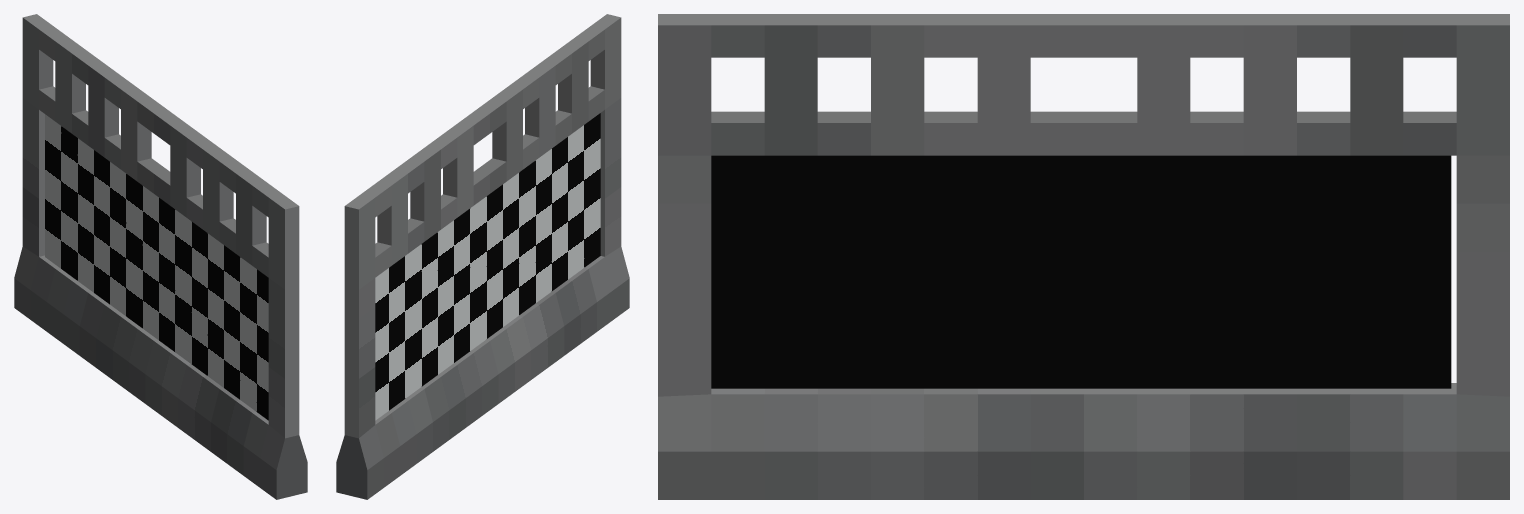
The model's file is meshWall.fbx.
3 renders of one model, left to right at view 1: azimuth 30°, elevation 25°; view 2: azimuth 150°, elevation 25°; view 3: azimuth 270°, elevation 25°, orthographic. The views are drawn at different scales.
Visible parts, largest first — view 1: cuboid, cuboid_1; view 2: cuboid, cuboid_1; view 3: cuboid, cuboid_1.
Part boxes in pixels (left/top/right/bottom): cuboid: left=14, top=14, right=307, bottom=499; cuboid_1: left=45, top=114, right=268, bottom=420; cuboid: left=336, top=14, right=629, bottom=499; cuboid_1: left=375, top=113, right=600, bottom=420; cuboid: left=658, top=14, right=1509, bottom=499; cuboid_1: left=711, top=155, right=1451, bottom=388.
Bounding box in the file's own units: 6.88 × 60.62 × 100.
2 materials, 2 textured.
